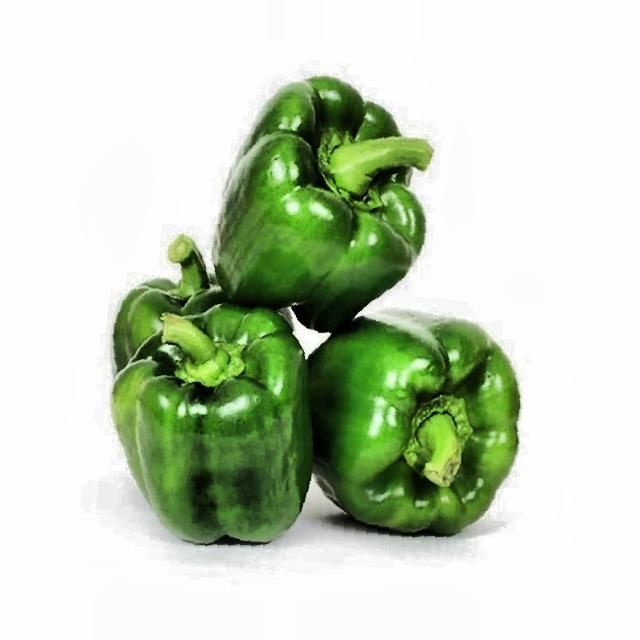green pepper: (58, 45, 589, 596)
